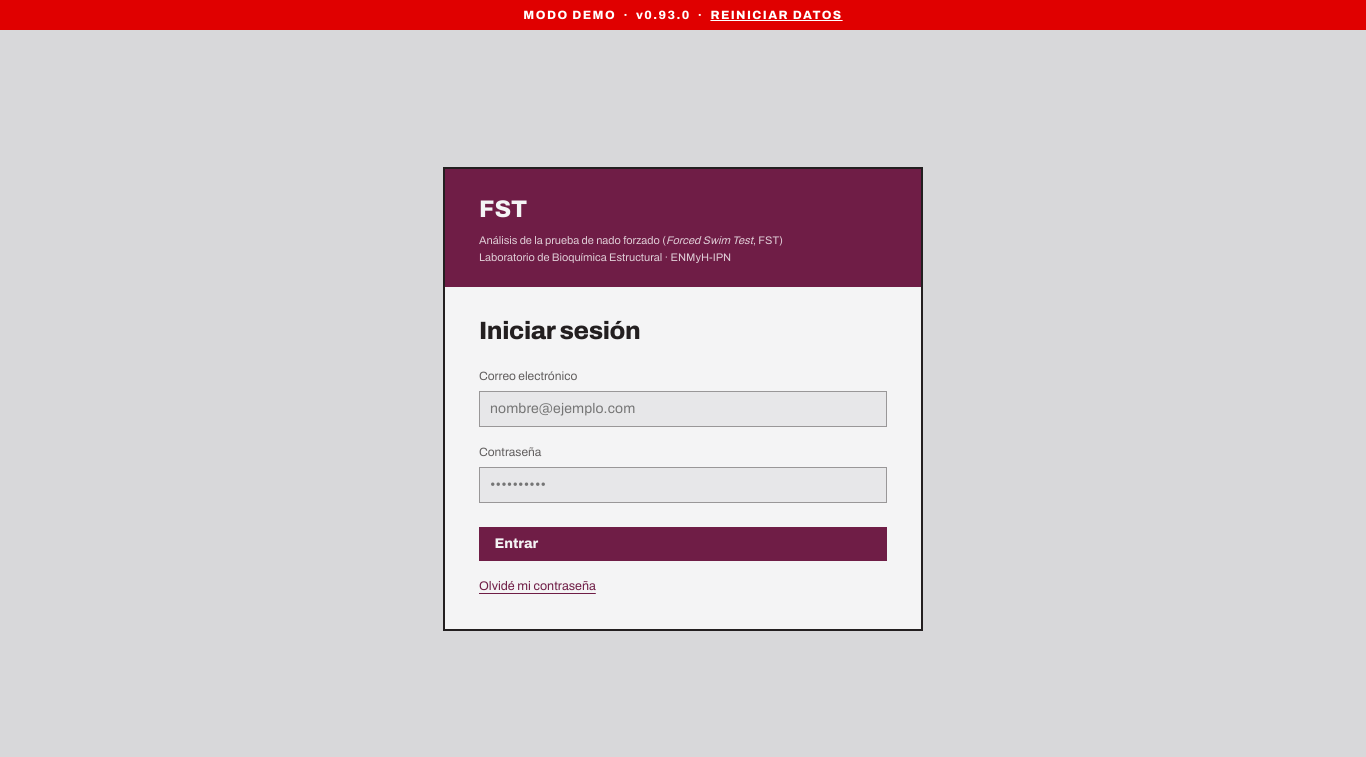
Test: acceso › una cuenta nueva pasa por el primer acceso antes de entrar
In the field labelled "Correo electrónico": (683, 409) [479,391,887,427], type "nueva.cuenta@ipn.mx"
In the password field labelled "Contraseña": (683, 485) [479,467,887,503], type "temporal-1"
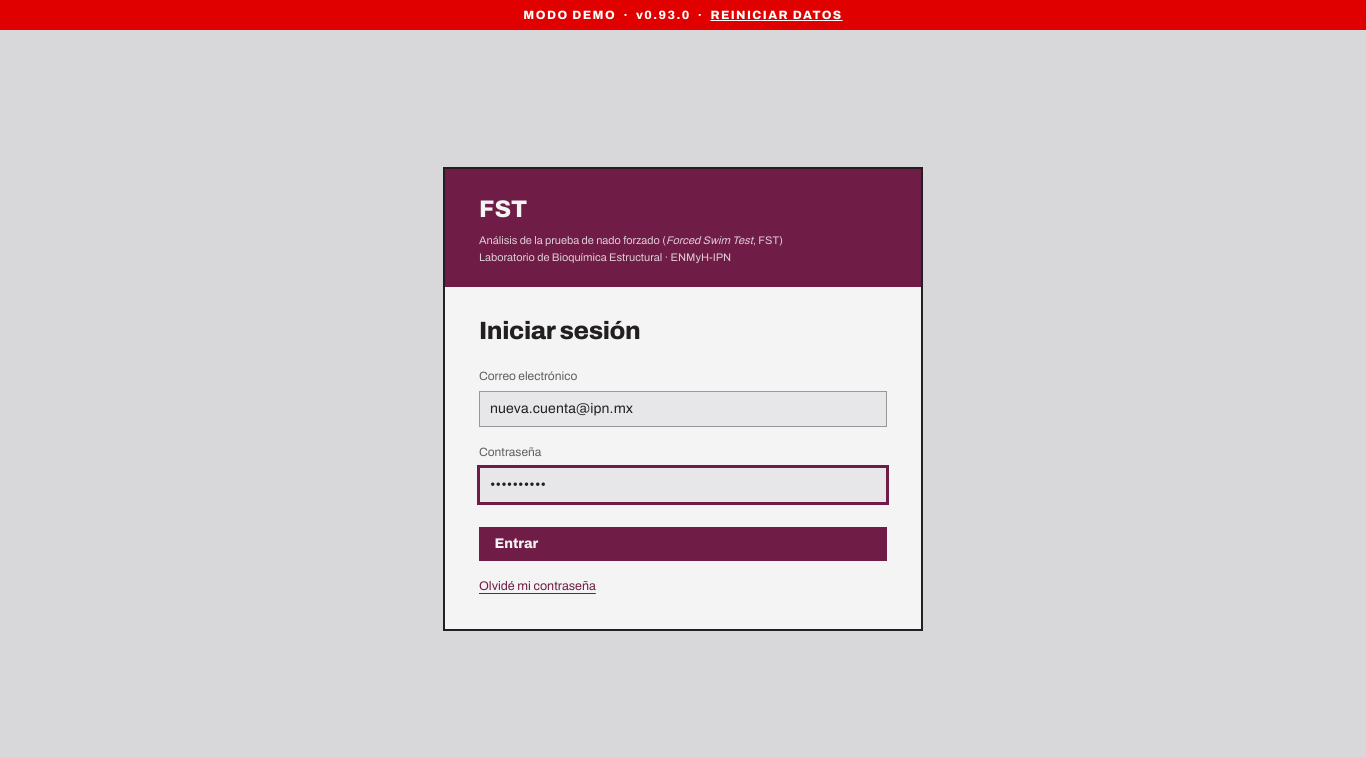
Click the button "Entrar": click(516, 543) [479,527,887,561]
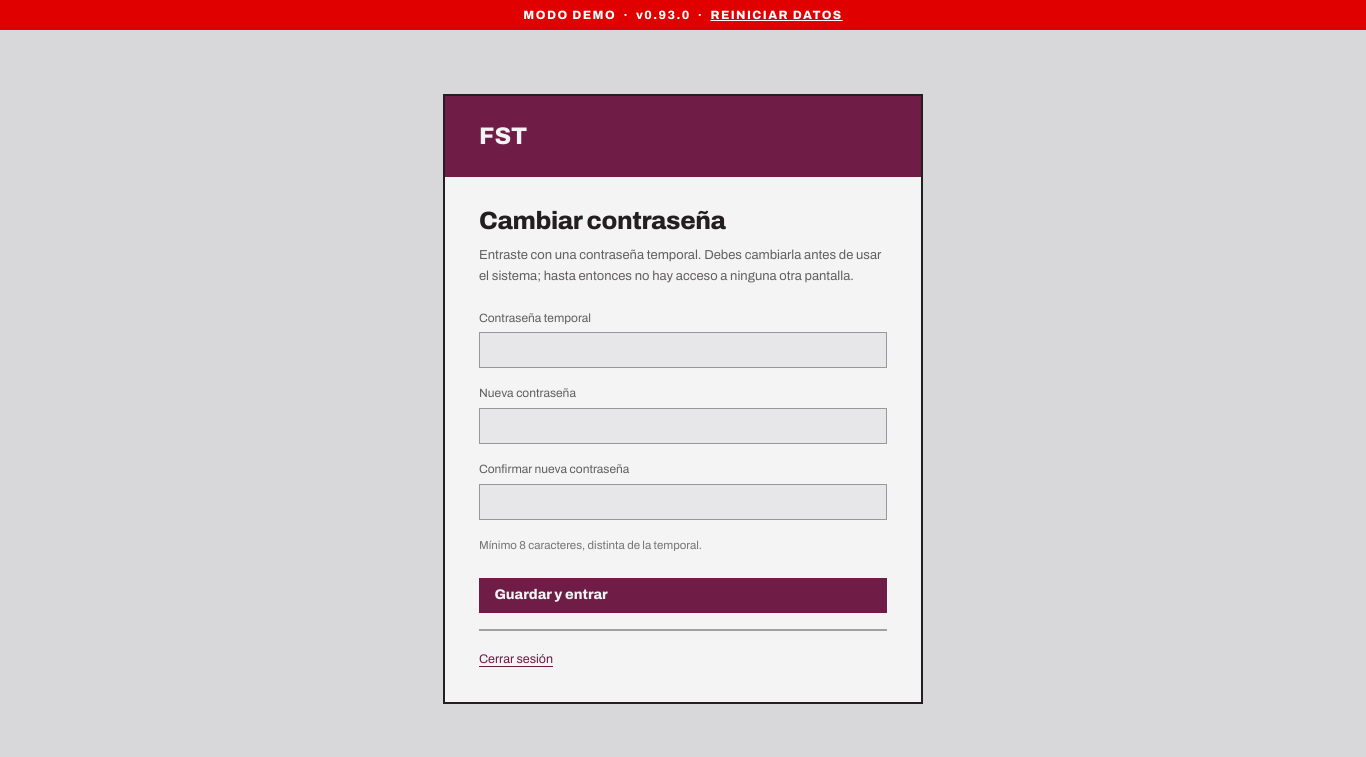
Check: the heading "Cambiar contraseña" is shown, box [479,207,726,234]
In the password field labelled "Contraseña temporal": (683, 350) [479,332,887,368], type "temporal-1"
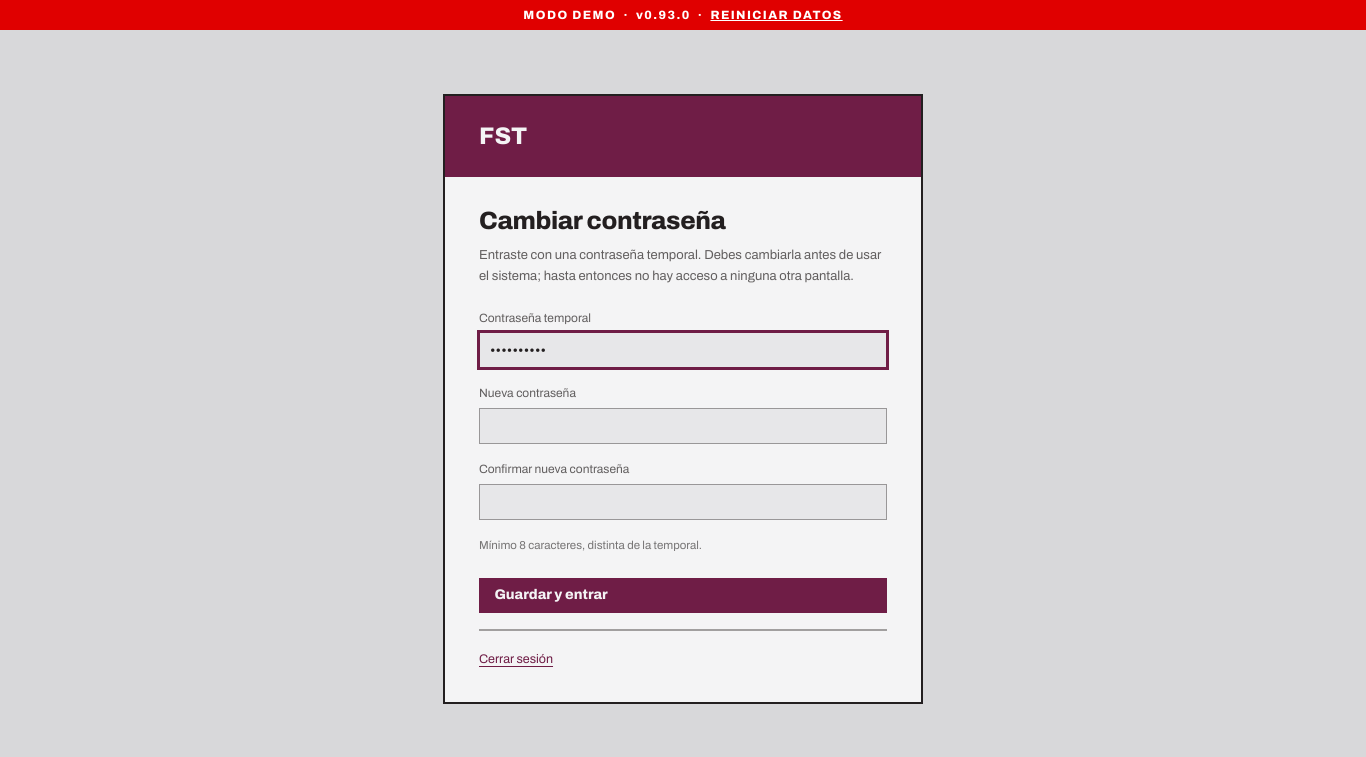
In the password field labelled "Nueva contraseña": (683, 426) [479,408,887,444], type "mi-clave-123"
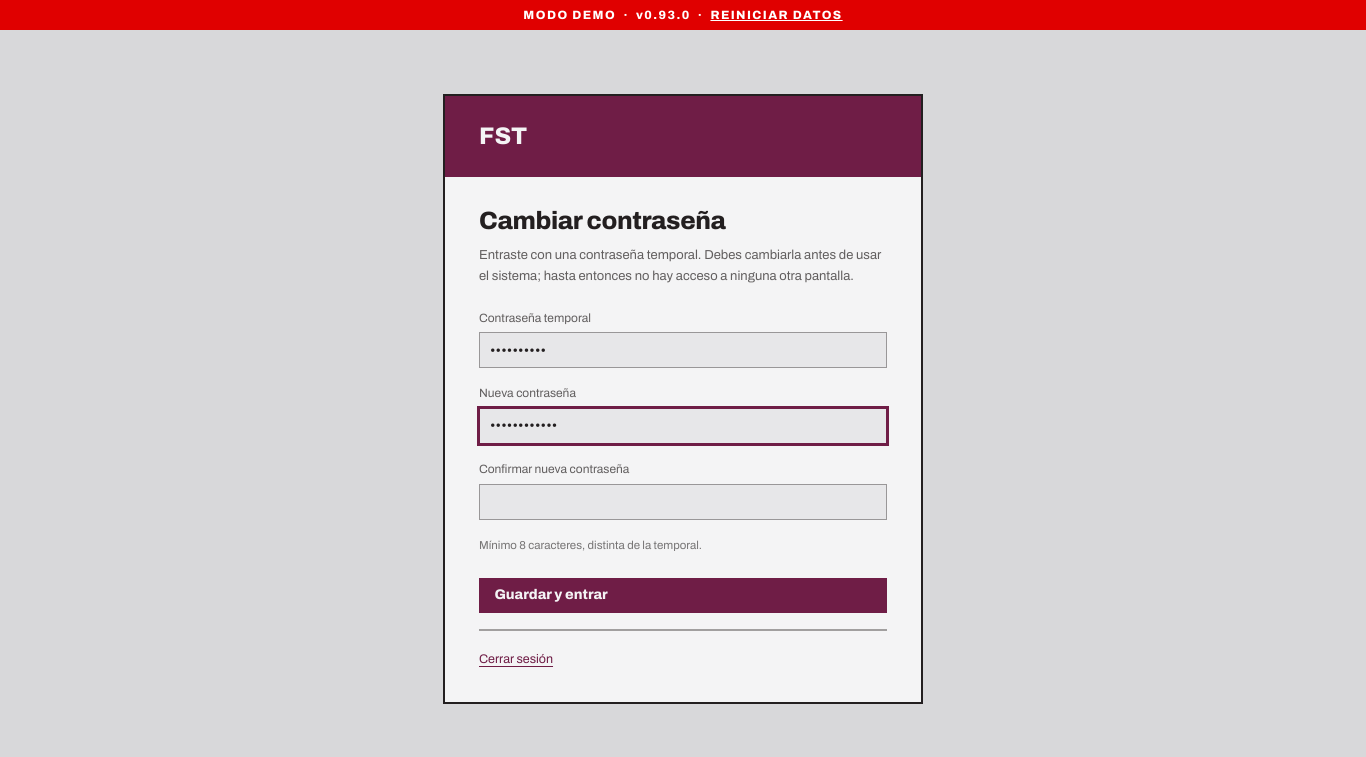
In the password field labelled "Confirmar nueva contraseña": (683, 502) [479,484,887,520], type "mi-clave-123"
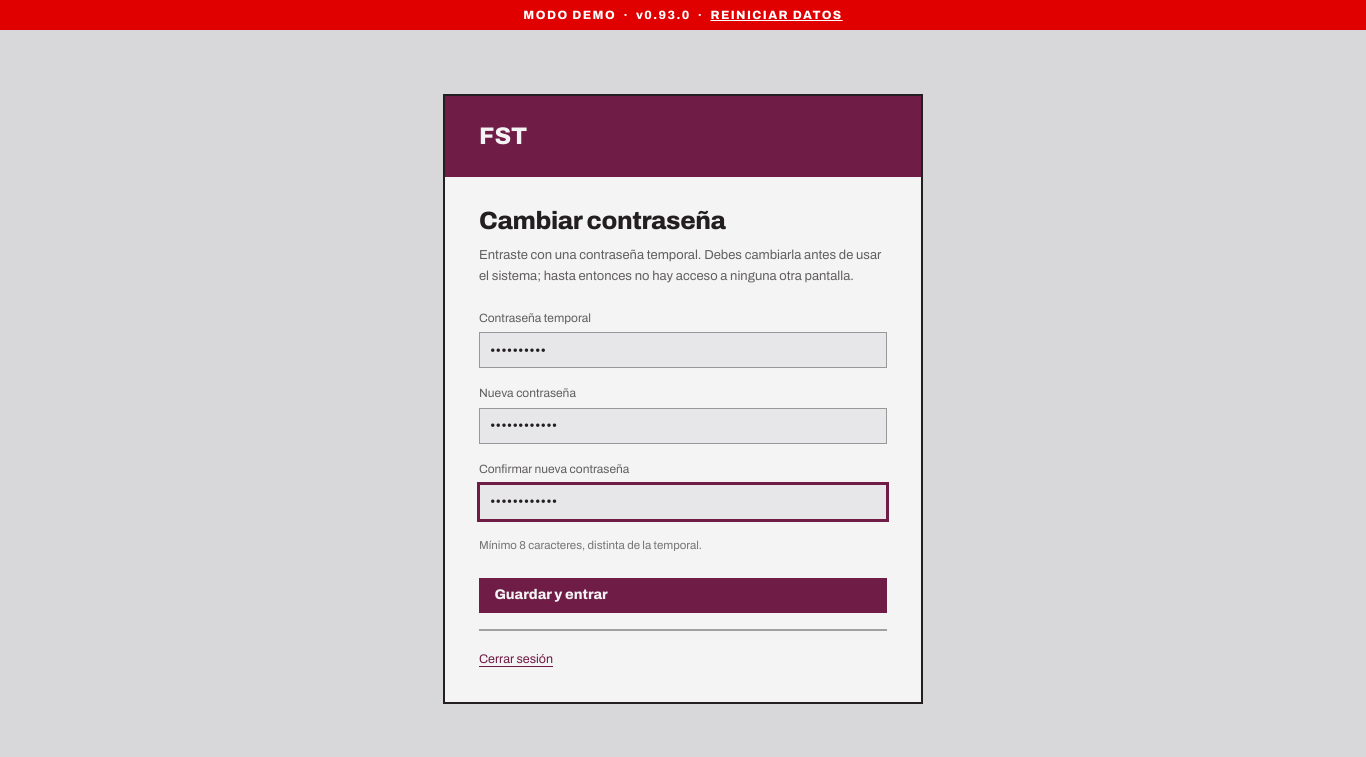
Click the button "Guardar y entrar": click(551, 594) [479,578,887,613]
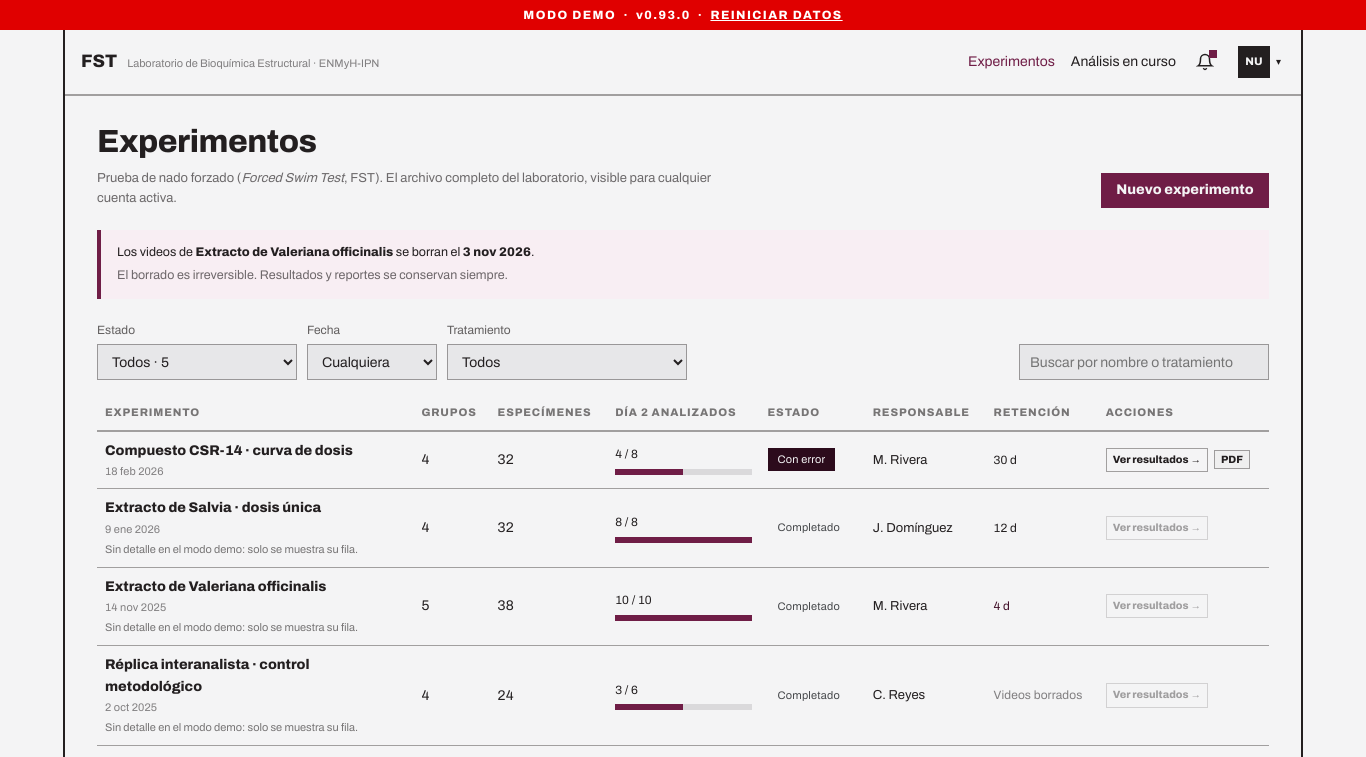
Check: the heading "Experimentos" is shown, box [97,124,317,159]
